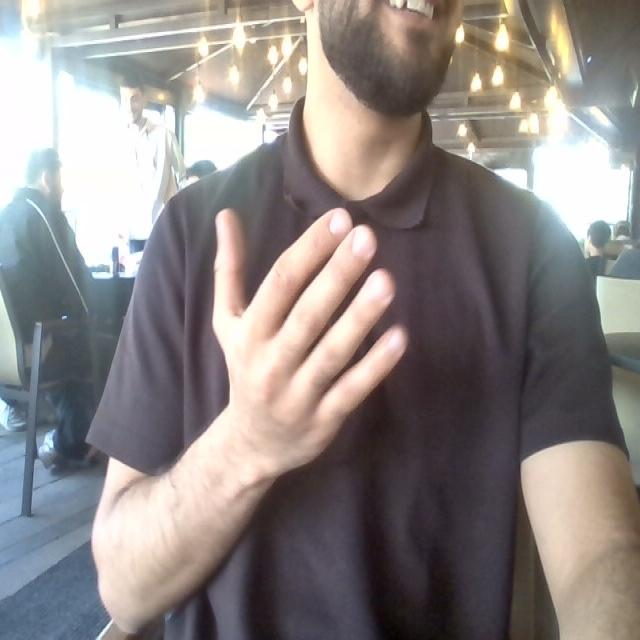Hand: (213, 210, 406, 475)
